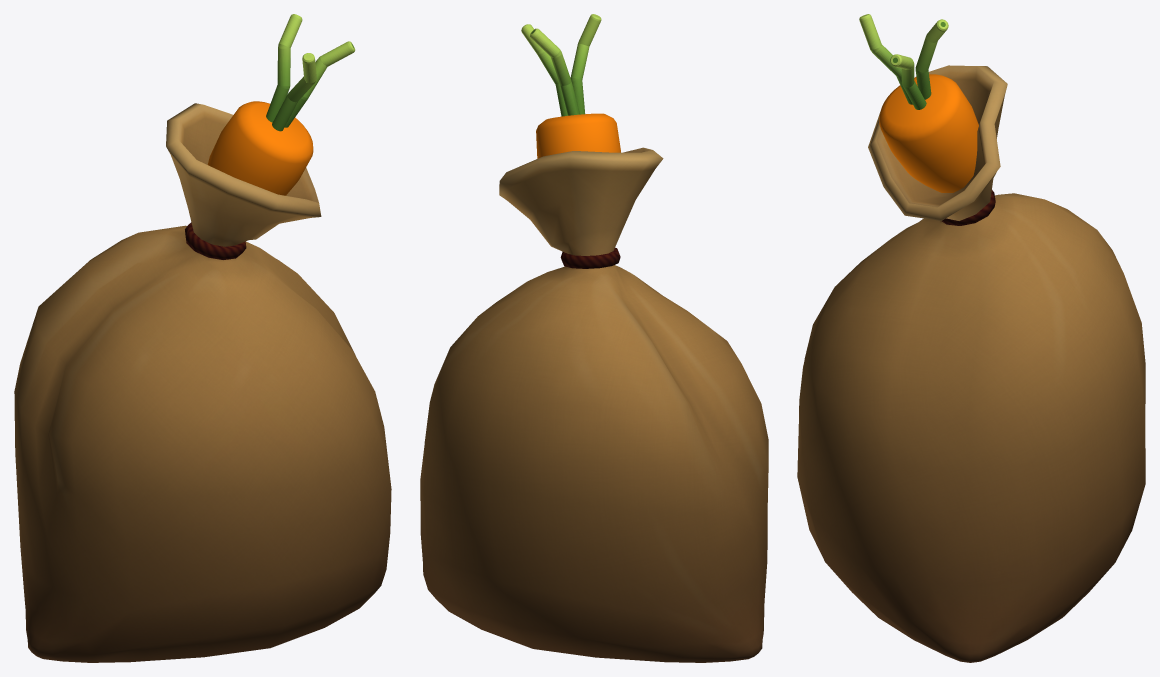
File: Carrot_Sack2.fbx
3 renders of one model, left to right at view 1: azimuth 30°, elevation 25°; view 2: azimuth 150°, elevation 25°; view 3: azimuth 270°, elevation 25°, orthographic. The views are drawn at different scales.
Parts seen in each view (by area): view 1: MoneyBag.001, Cylinder.001, Stem 2.001, Stem 3.001, Stem 1.001; view 2: MoneyBag.001, Cylinder.001, Stem 2.001, Stem 3.001, Stem 1.001; view 3: MoneyBag.001, Cylinder.001, Stem 2.001, Stem 3.001, Stem 1.001.
Part boxes in pixels (<box>): MoneyBag.001: <box>14,103,391,662</box>; Cylinder.001: <box>207,101,313,195</box>; Stem 2.001: <box>266,14,302,122</box>; Stem 3.001: <box>272,53,316,131</box>; Stem 1.001: <box>285,41,355,127</box>; MoneyBag.001: <box>420,147,768,662</box>; Cylinder.001: <box>536,113,620,158</box>; Stem 2.001: <box>530,28,579,115</box>; Stem 3.001: <box>570,14,601,114</box>; Stem 1.001: <box>521,24,567,116</box>; MoneyBag.001: <box>797,65,1145,662</box>; Cylinder.001: <box>879,74,978,192</box>; Stem 2.001: <box>915,19,948,99</box>; Stem 3.001: <box>859,14,912,104</box>; Stem 1.001: <box>890,54,926,109</box>.
Bounding box in the file's own units: 435 × 715 × 376.
